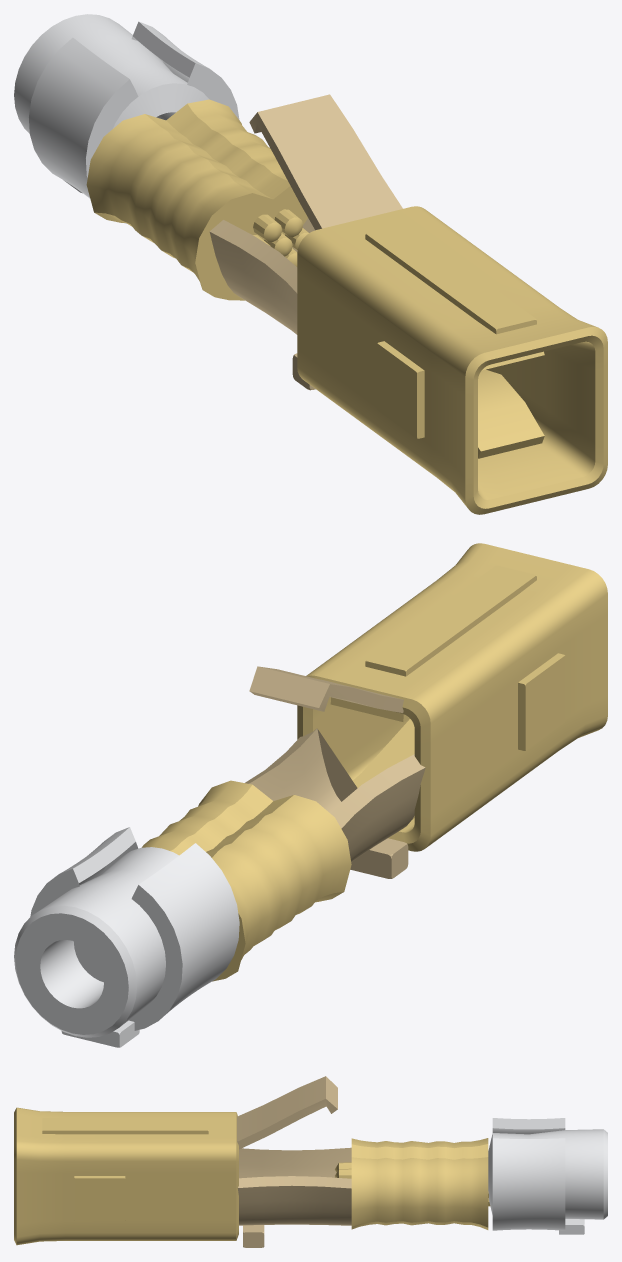
The model's file is terminals-contacts.glb.
3 views of the same model, one above another, from view 1: azimuth 30°, elevation 25°; view 2: azimuth 150°, elevation 25°; view 3: azimuth 270°, elevation 25° (orthographic). The views are drawn at different scales.
Visible parts, largest first — view 1: Contact_Box, Wire_Crimp_Barrel, Insulation_Crimp, Locking_Lance; view 2: Contact_Box, Insulation_Crimp, Wire_Crimp_Barrel, Locking_Lance; view 3: Contact_Box, Insulation_Crimp, Locking_Lance, Wire_Crimp_Barrel.
Boxes of the visible parts, x1,y1,x2,y2 form: Contact_Box: (297,206,607,514); Wire_Crimp_Barrel: (86,99,308,300); Insulation_Crimp: (14,14,239,223); Locking_Lance: (209,94,402,390); Contact_Box: (297,543,607,851); Insulation_Crimp: (14,827,239,1047); Wire_Crimp_Barrel: (142,780,351,981); Locking_Lance: (245,666,425,878); Contact_Box: (14,1107,238,1245); Insulation_Crimp: (488,1118,607,1234); Locking_Lance: (237,1076,351,1247); Wire_Crimp_Barrel: (335,1138,490,1229).
Bounding box in the file's own units: 0.4722 × 0.647 × 2.4.
